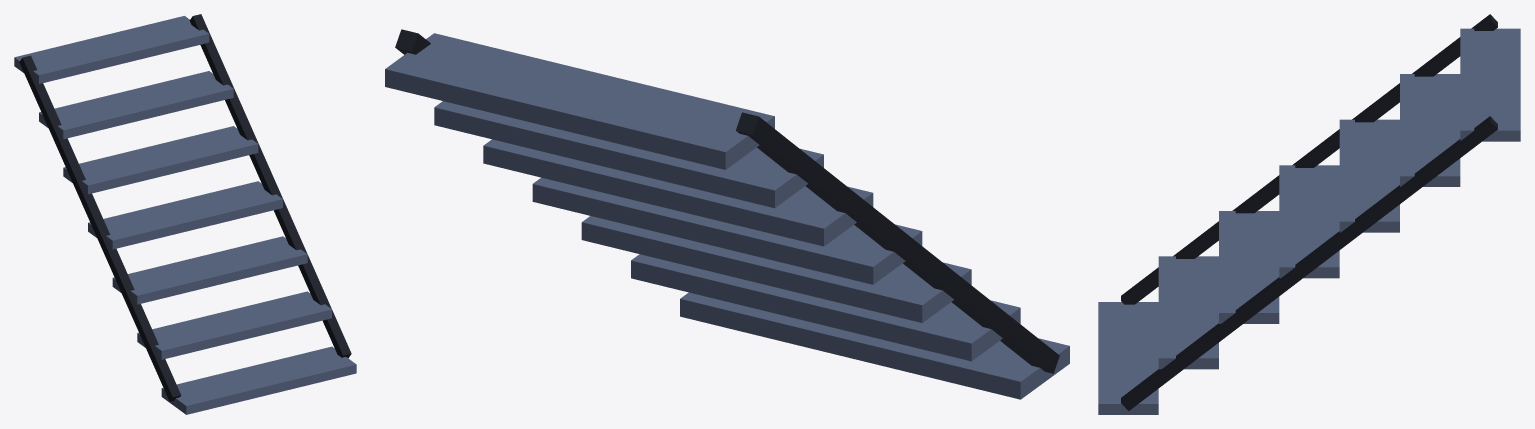
File: stairs_metal.obj
3 renders of one model, left to right at view 1: azimuth 30°, elevation 25°; view 2: azimuth 150°, elevation 25°; view 3: azimuth 270°, elevation 25°, orthographic. The views are drawn at different scales.
Parts seen in each view (by area): view 1: stairs_metal; view 2: stairs_metal; view 3: stairs_metal.
Boxes of the visible parts, bbox=[...] form: stairs_metal: bbox=[14, 14, 356, 414]; stairs_metal: bbox=[385, 29, 1069, 399]; stairs_metal: bbox=[1098, 14, 1520, 414].
Size of the model in its own units: 1.26 by 1.63 by 2.1.
